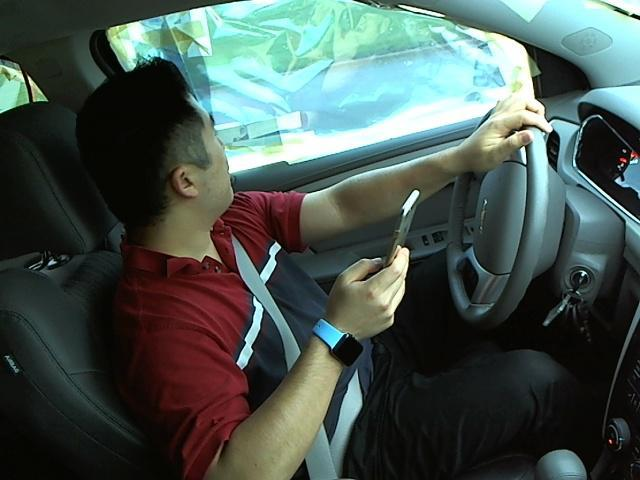PhoneUse: (377, 180, 428, 282)
